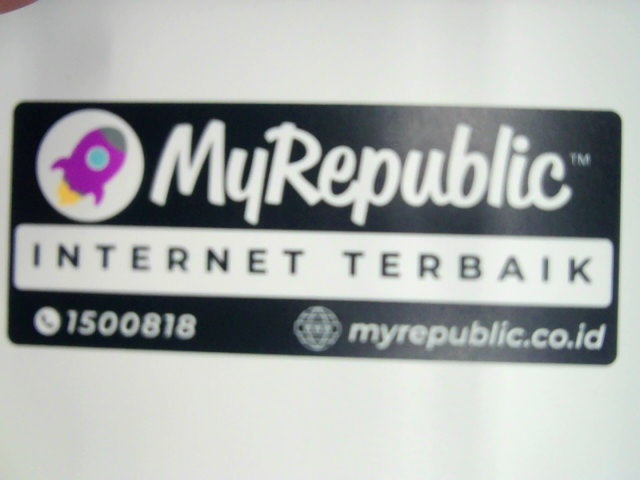BD_MyRepublic: (7, 92, 620, 368)
